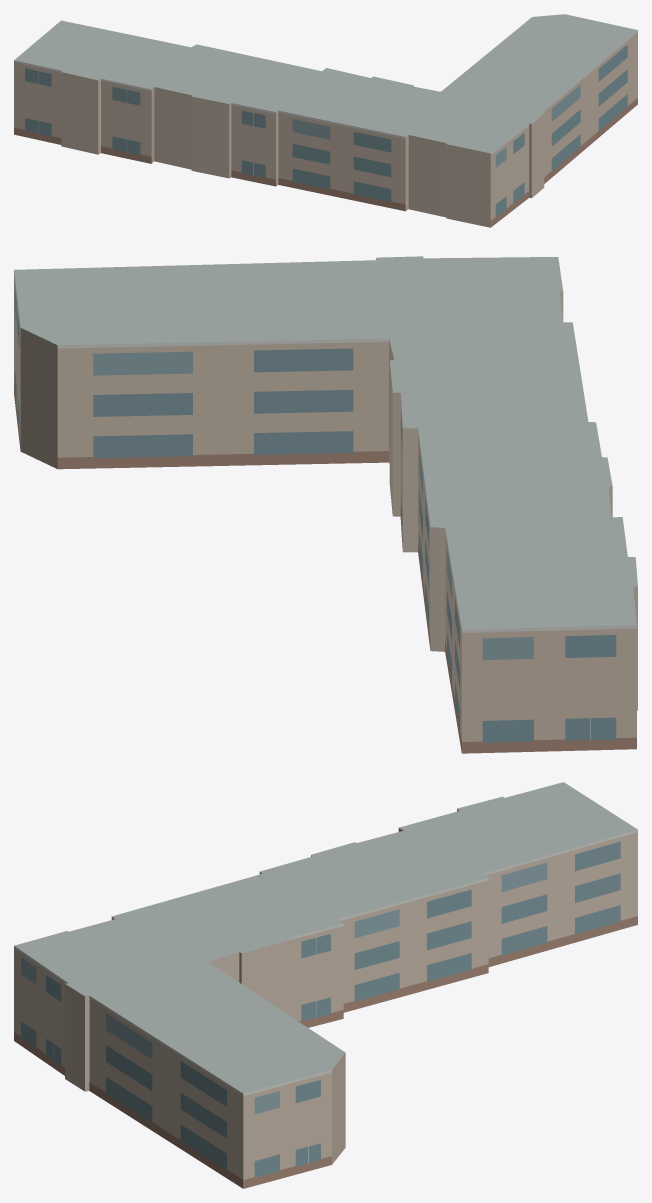
Rendered from survey-upis-32519050.glb.
3 views of the same model, one above another, from view 1: azimuth 30°, elevation 25°; view 2: azimuth 150°, elevation 25°; view 3: azimuth 270°, elevation 25° (orthographic). The views are drawn at different scales.
Visible parts, largest first — view 1: survey-upis-32519050.tmp; view 2: survey-upis-32519050.tmp; view 3: survey-upis-32519050.tmp.
Boxes of the visible parts, x1,y1,x2,y2 form: survey-upis-32519050.tmp: (14,14,637,227); survey-upis-32519050.tmp: (14,256,637,753); survey-upis-32519050.tmp: (14,782,637,1188).
Bounding box in the file's own units: 64.24 × 9.15 × 54.35.
